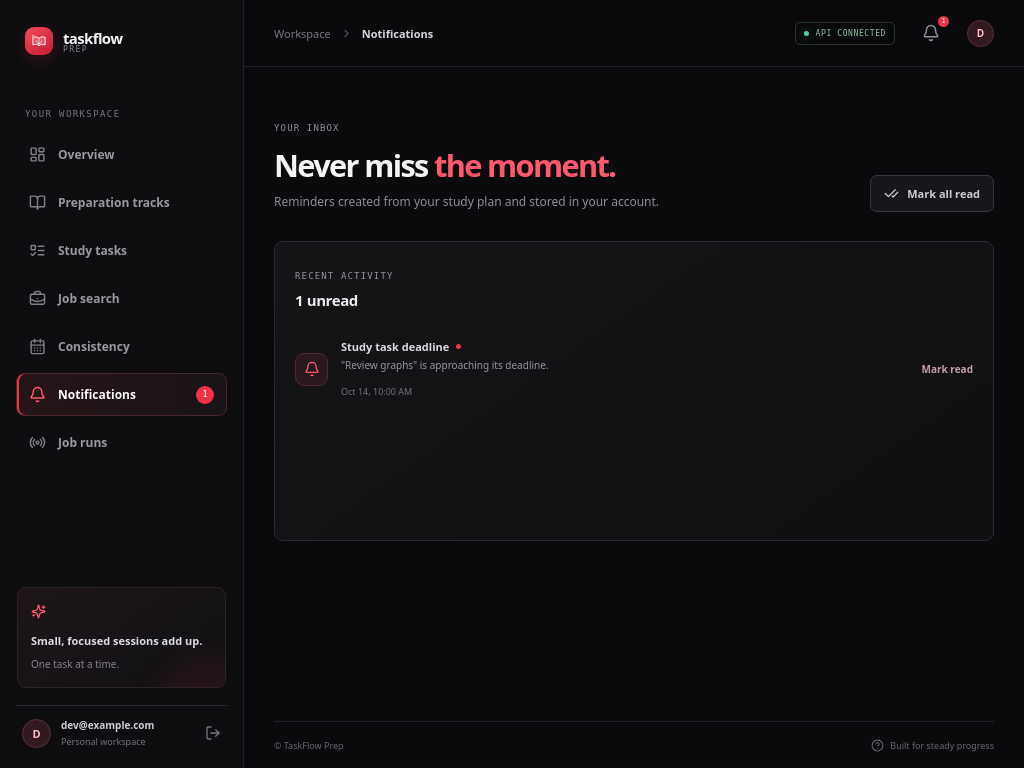
Test: sign-in state › marks a persisted notification read and refreshes the unread count
Expected: the heading "1 unread" is shown, [295,290,358,310]
What coordinates should you click on to do the following:
click the button "Mark read"
I would click on:
 (947, 369)
Its box is [922,357,973,381].
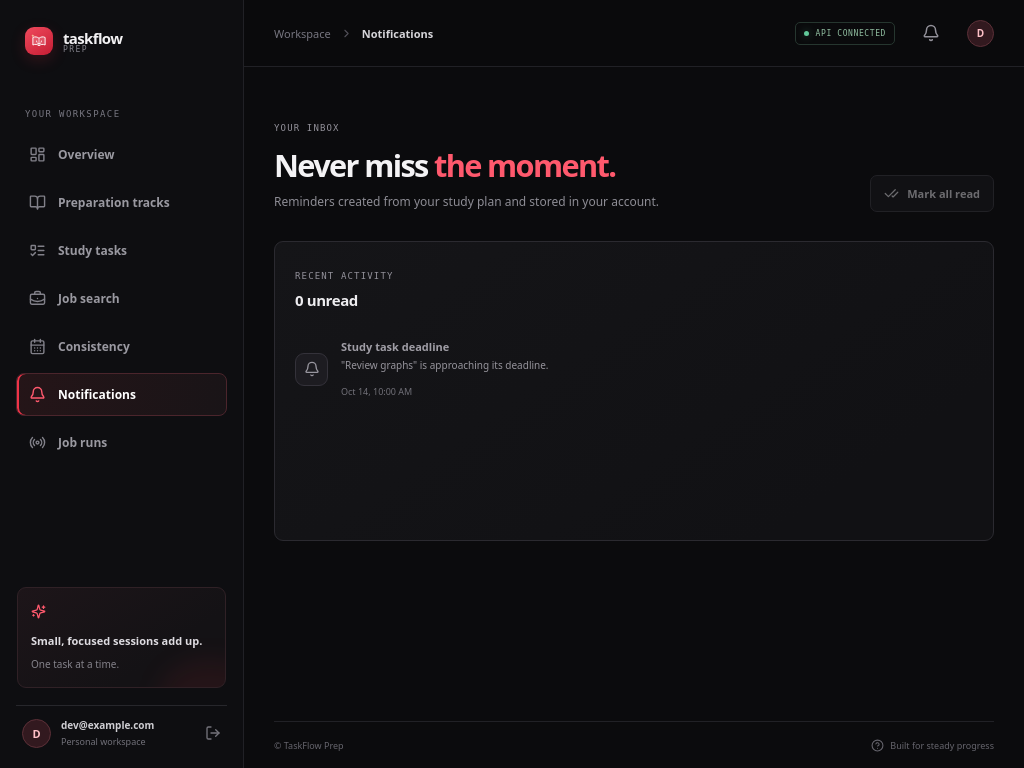
Expected: the button "Mark read" is gone
Expected: the heading "0 unread" is shown, [295,290,358,310]
